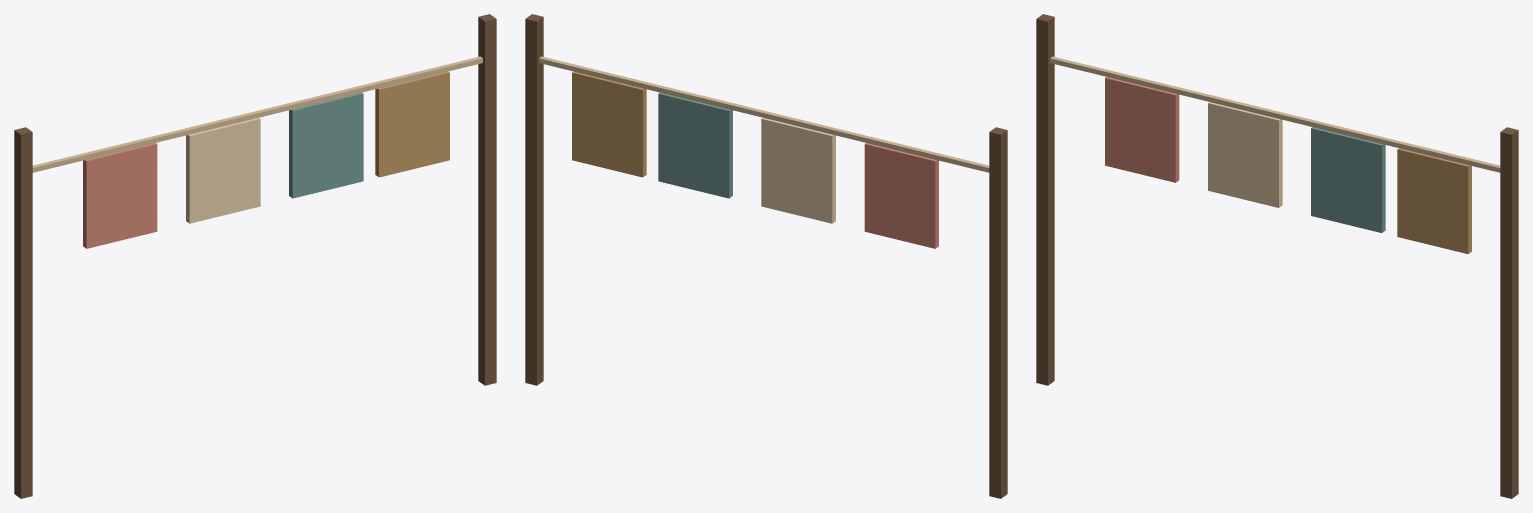
The model's file is clothesline.glb.
3 renders of one model, left to right at view 1: azimuth 30°, elevation 25°; view 2: azimuth 150°, elevation 25°; view 3: azimuth 330°, elevation 25°, orthographic.
Parts seen in each view (by area): view 1: _MeshInstance3D_69, _MeshInstance3D_70, _MeshInstance3D_73, _MeshInstance3D_74, _MeshInstance3D_72, _MeshInstance3D_75, _MeshInstance3D_71; view 2: _MeshInstance3D_69, _MeshInstance3D_70, _MeshInstance3D_73, _MeshInstance3D_74, _MeshInstance3D_72, _MeshInstance3D_75, _MeshInstance3D_71; view 3: _MeshInstance3D_70, _MeshInstance3D_69, _MeshInstance3D_74, _MeshInstance3D_75, _MeshInstance3D_72, _MeshInstance3D_73, _MeshInstance3D_71.
Part boxes in pixels (x1,y1,x2,y2): _MeshInstance3D_69: [14, 127, 32, 498]; _MeshInstance3D_70: [478, 14, 496, 385]; _MeshInstance3D_73: [186, 117, 260, 223]; _MeshInstance3D_74: [289, 92, 363, 198]; _MeshInstance3D_72: [83, 143, 157, 248]; _MeshInstance3D_75: [375, 71, 449, 177]; _MeshInstance3D_71: [32, 56, 482, 172]; _MeshInstance3D_69: [989, 127, 1007, 498]; _MeshInstance3D_70: [525, 14, 543, 385]; _MeshInstance3D_73: [761, 117, 835, 223]; _MeshInstance3D_74: [658, 92, 732, 198]; _MeshInstance3D_72: [864, 143, 938, 248]; _MeshInstance3D_75: [572, 71, 646, 177]; _MeshInstance3D_71: [539, 56, 989, 172]; _MeshInstance3D_70: [1500, 127, 1518, 498]; _MeshInstance3D_69: [1036, 14, 1054, 385]; _MeshInstance3D_74: [1311, 127, 1385, 232]; _MeshInstance3D_75: [1397, 148, 1471, 253]; _MeshInstance3D_72: [1105, 77, 1179, 182]; _MeshInstance3D_73: [1208, 102, 1282, 207]; _MeshInstance3D_71: [1050, 56, 1500, 172].
Bounding box in the file's own units: 3.69 × 2.7 × 0.09.
